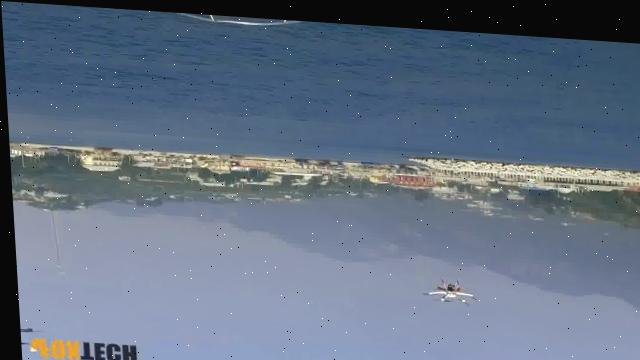drone: (416, 265, 480, 303)
